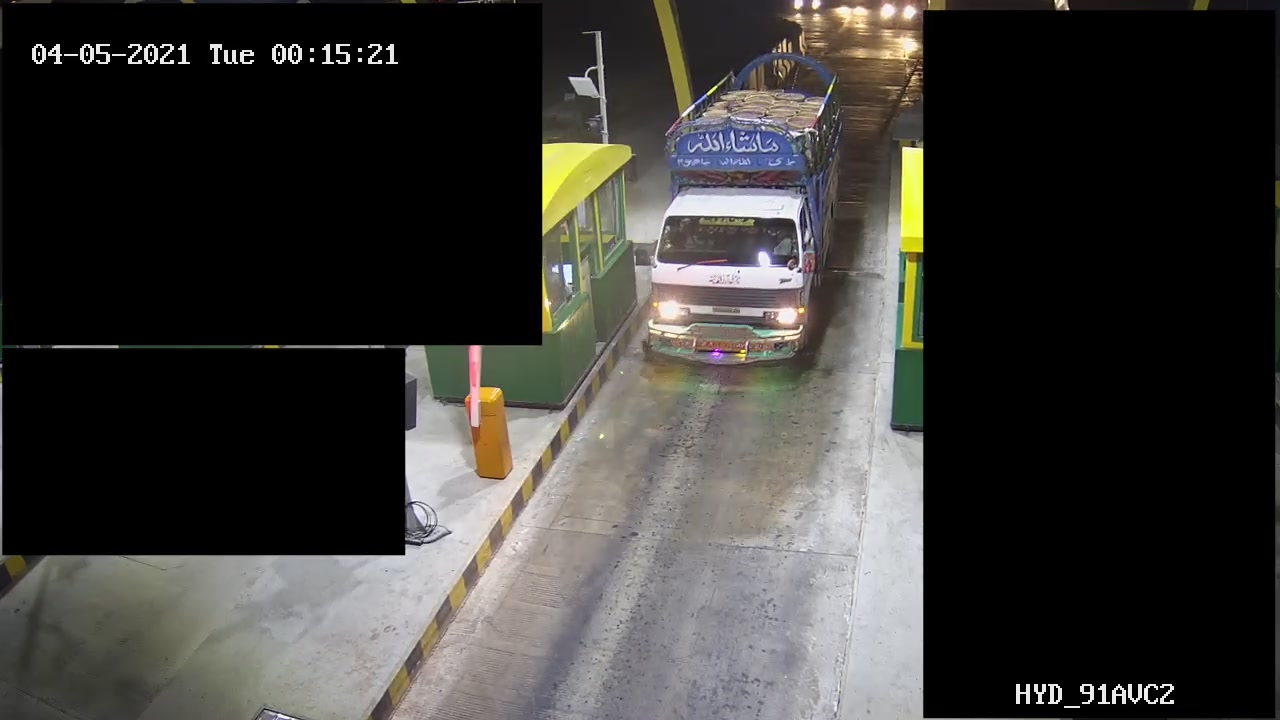F5: (634, 44, 847, 377)
